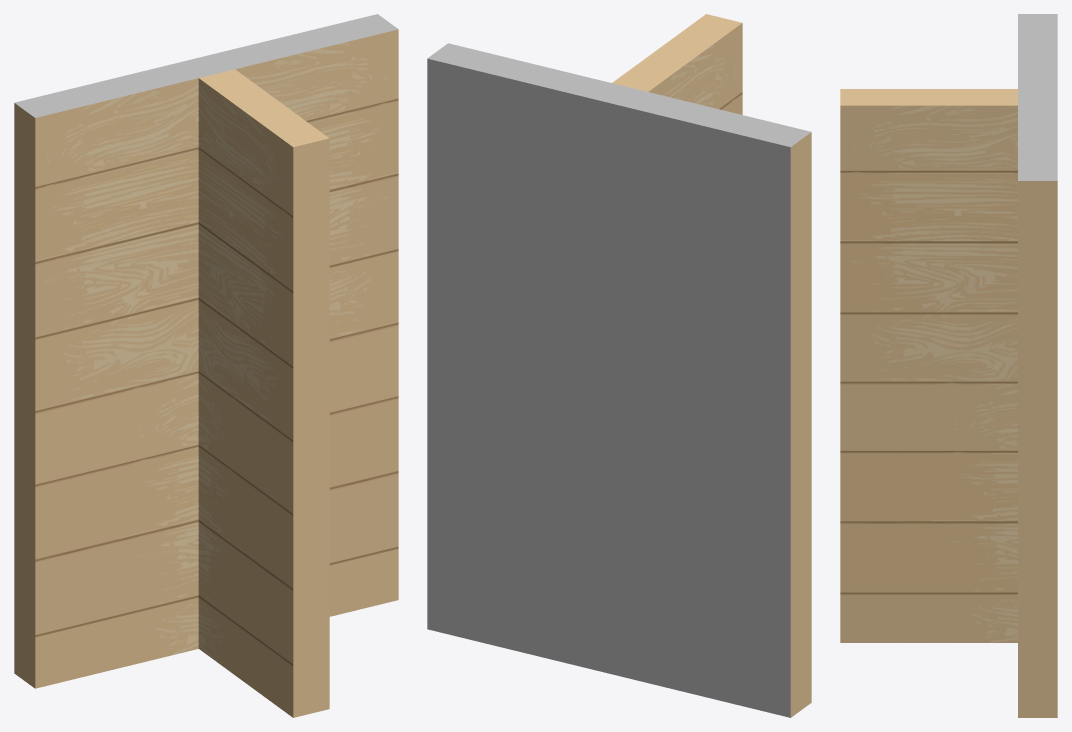
The model's file is Wall Standard 1x3 X3.fbx.
The picture shows the model from 3 angles, left to right: view 1: azimuth 30°, elevation 25°; view 2: azimuth 150°, elevation 25°; view 3: azimuth 270°, elevation 25°; orthographic projection. The views are drawn at different scales.
Parts seen in each view (by area): view 1: Wall Standard 1x3 X3; view 2: Wall Standard 1x3 X3; view 3: Wall Standard 1x3 X3.
Boxes of the visible parts, x1,y1,x2,y2 form: Wall Standard 1x3 X3: (14, 14, 398, 717); Wall Standard 1x3 X3: (427, 14, 811, 717); Wall Standard 1x3 X3: (840, 14, 1057, 717).
Size of the model in its own units: 200 by 300 by 110.
